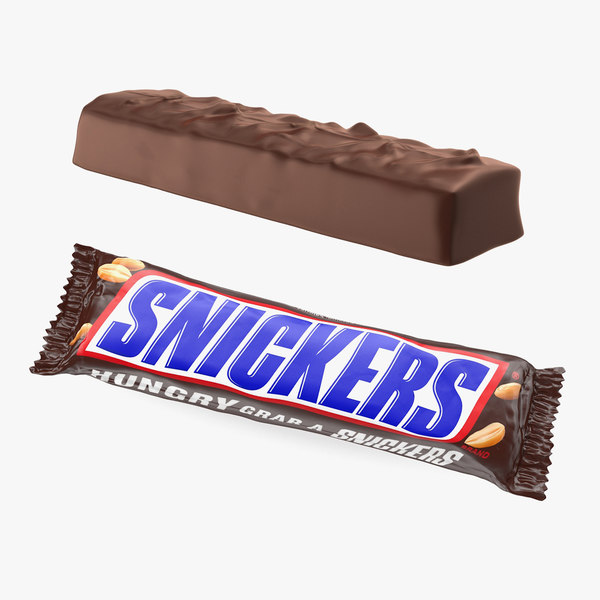snickers: (24, 216, 580, 510)
